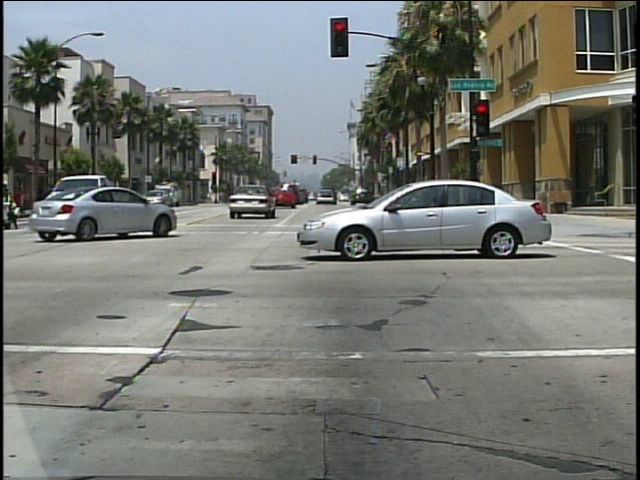person: (3, 173, 24, 231)
